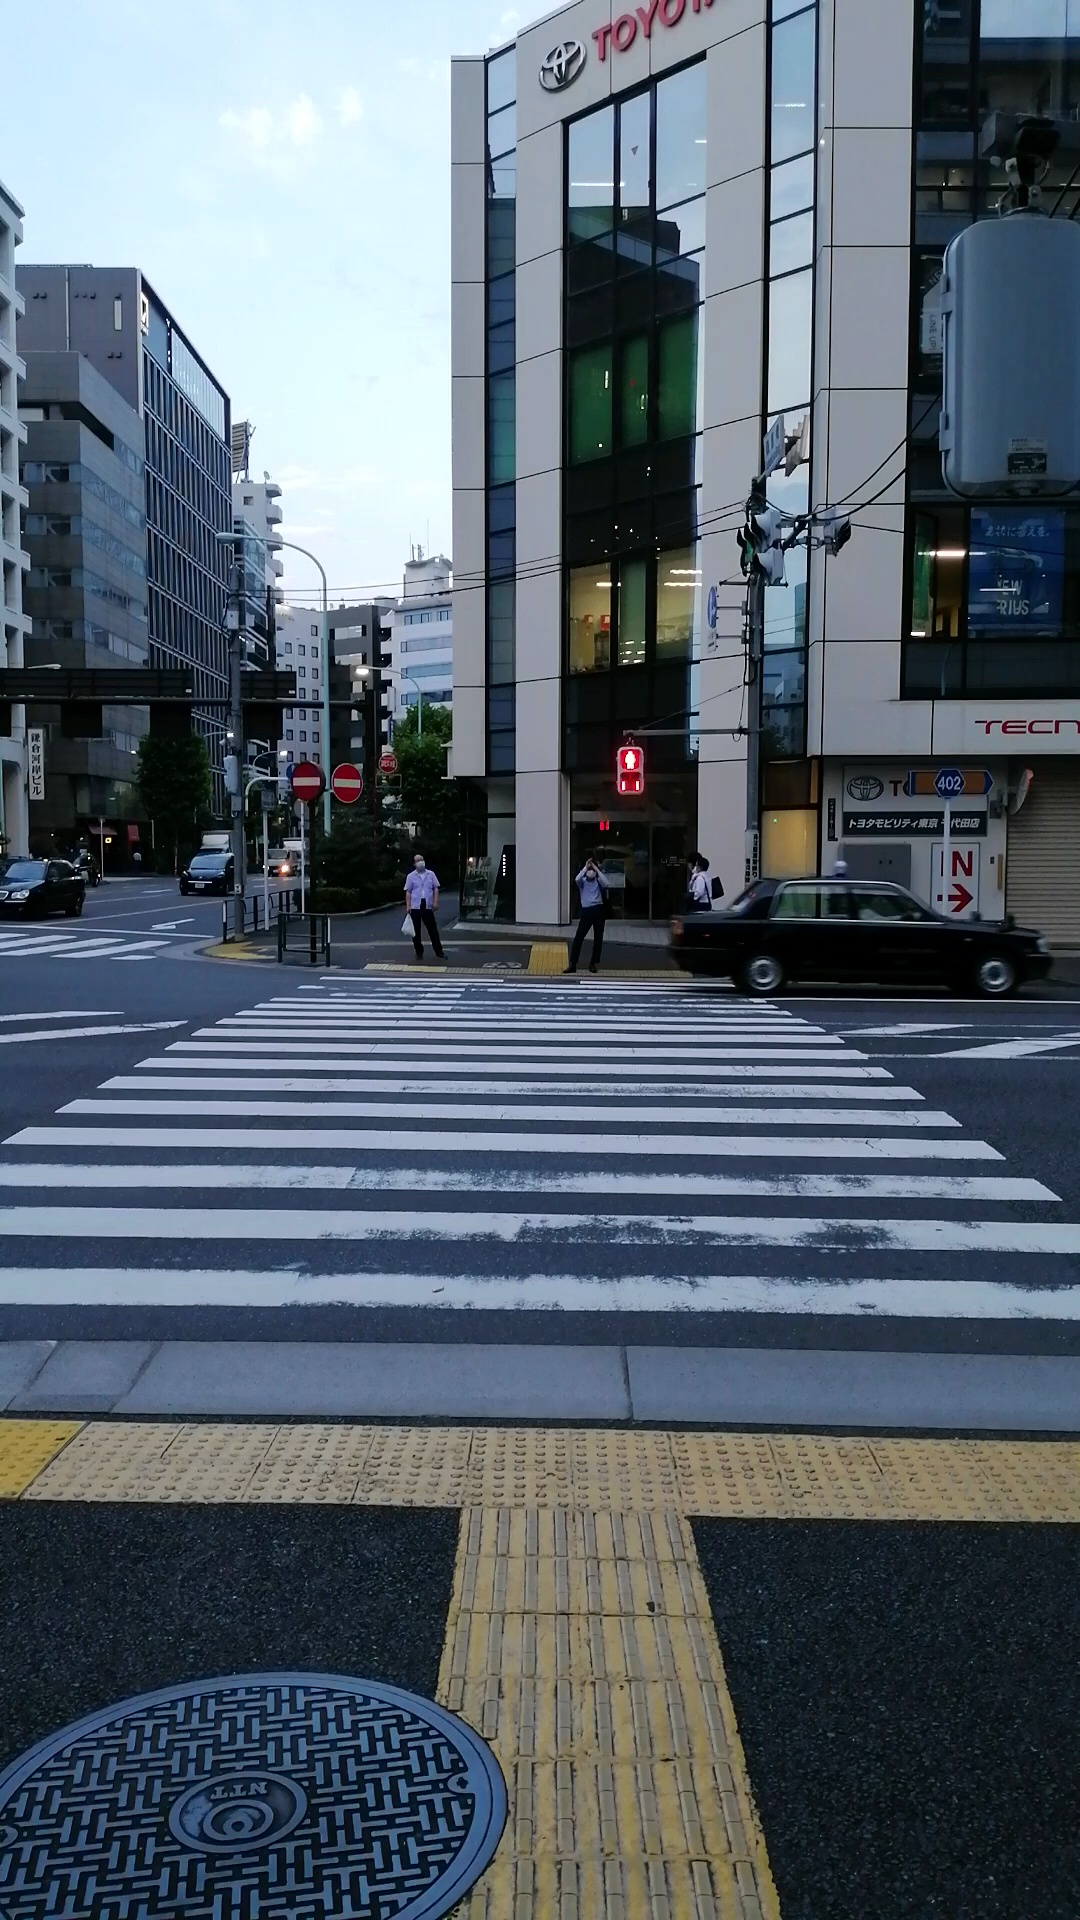red: (613, 745, 646, 795)
